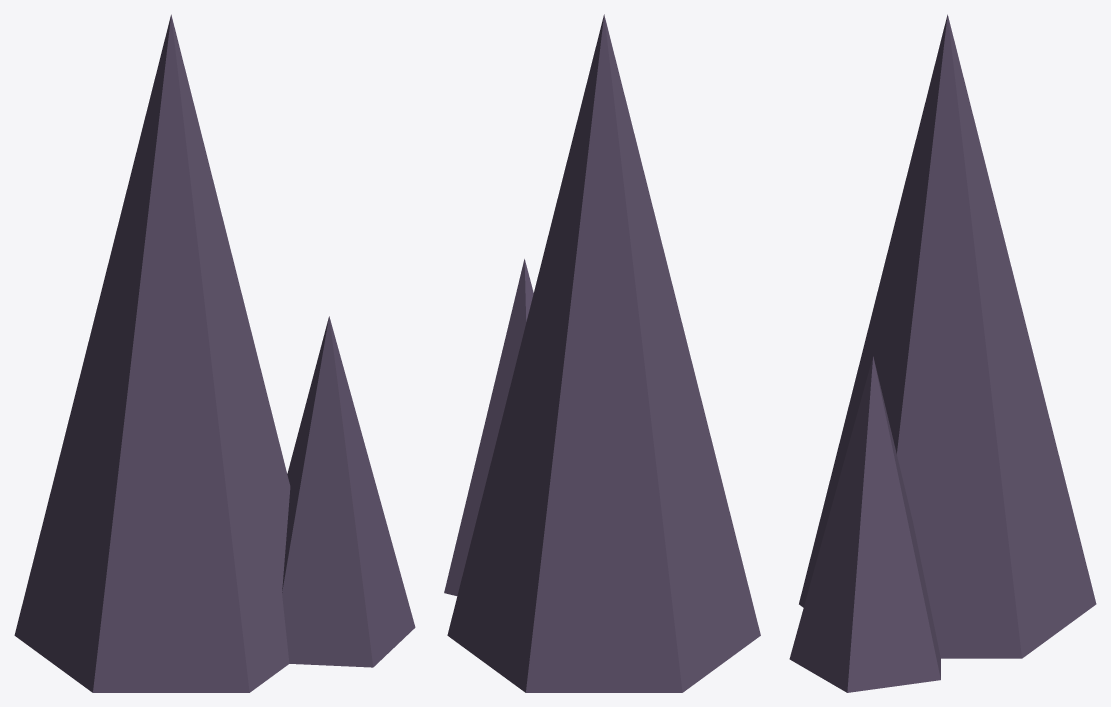
Rendered from stalagmite.glb.
3 views of the same model, side by side, from view 1: azimuth 30°, elevation 25°; view 2: azimuth 150°, elevation 25°; view 3: azimuth 270°, elevation 25° (orthographic). The views are drawn at different scales.
Parts seen in each view (by area): view 1: cave-stalagmite; view 2: cave-stalagmite; view 3: cave-stalagmite.
Boxes of the visible parts, <box> form: cave-stalagmite: <box>14,14,415,692</box>; cave-stalagmite: <box>444,14,760,692</box>; cave-stalagmite: <box>789,14,1096,692</box>.
Bounding box in the file's own units: 0.3642 × 0.7 × 0.33.
